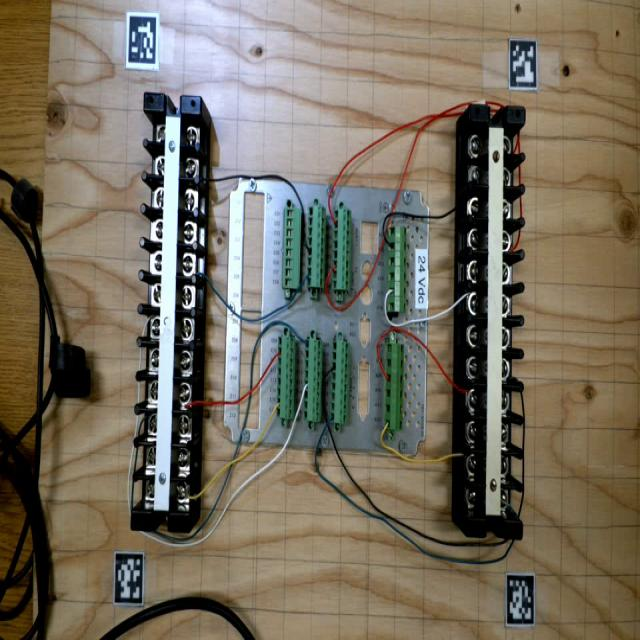Flathead_Block: (467, 104, 526, 540)
Phillips_Block: (130, 93, 202, 533)
Terminal_1: (384, 343, 404, 430), (387, 227, 407, 313)
Terminal_2: (306, 204, 327, 289), (332, 208, 352, 292), (276, 336, 296, 418), (304, 339, 323, 423), (331, 341, 350, 424)
